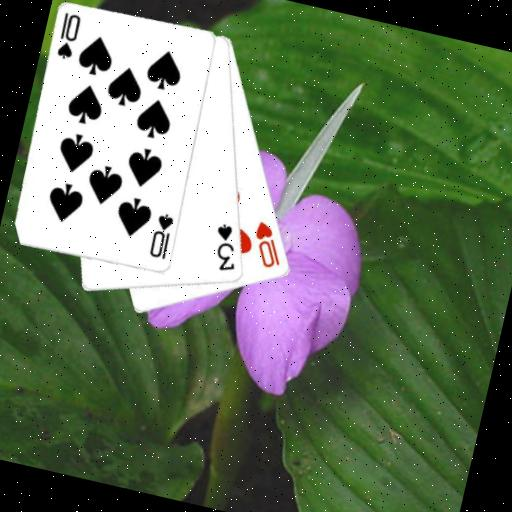10H: (245, 218, 291, 273)
10S: (146, 209, 178, 263), (52, 10, 84, 64)
3S: (206, 219, 247, 275)
